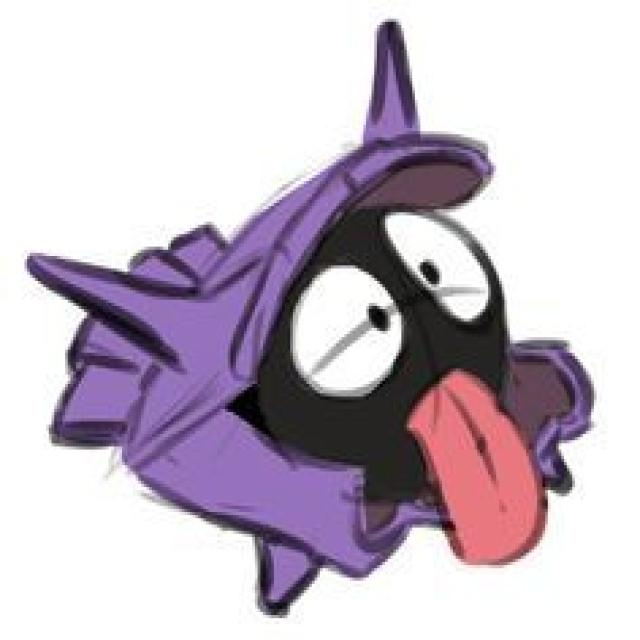Shellder: (21, 42, 602, 598)
